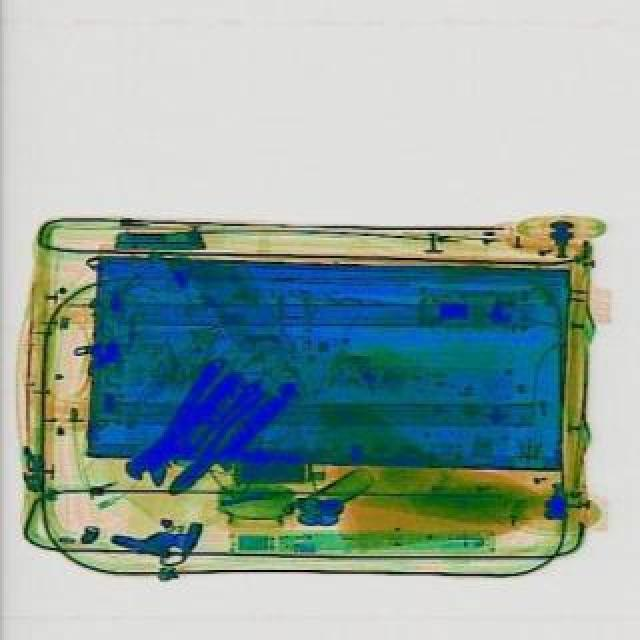scissors: (118, 348, 234, 492)
wrench: (158, 388, 282, 508)
